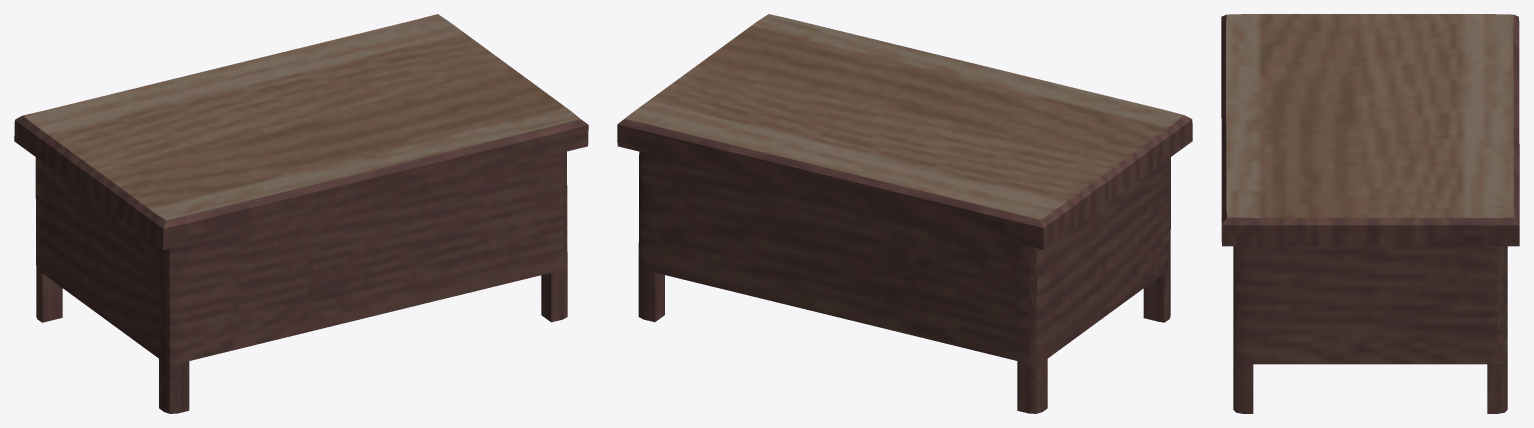
The model's file is table.fbx.
3 views of the same model, side by side, from view 1: azimuth 30°, elevation 25°; view 2: azimuth 150°, elevation 25°; view 3: azimuth 270°, elevation 25° (orthographic).
Parts seen in each view (by area): view 1: table; view 2: table; view 3: table.
Part boxes in pixels (x1,y1,x2,y2): table: (14, 14, 588, 413); table: (617, 14, 1192, 413); table: (1221, 14, 1519, 413).
Bounding box in the file's own units: 449 × 201 × 272.
